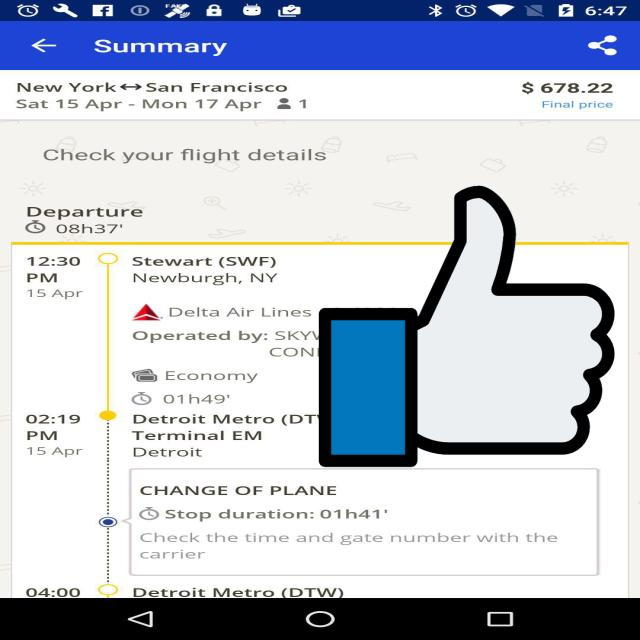privacy zuckering: (319, 180, 614, 473)
